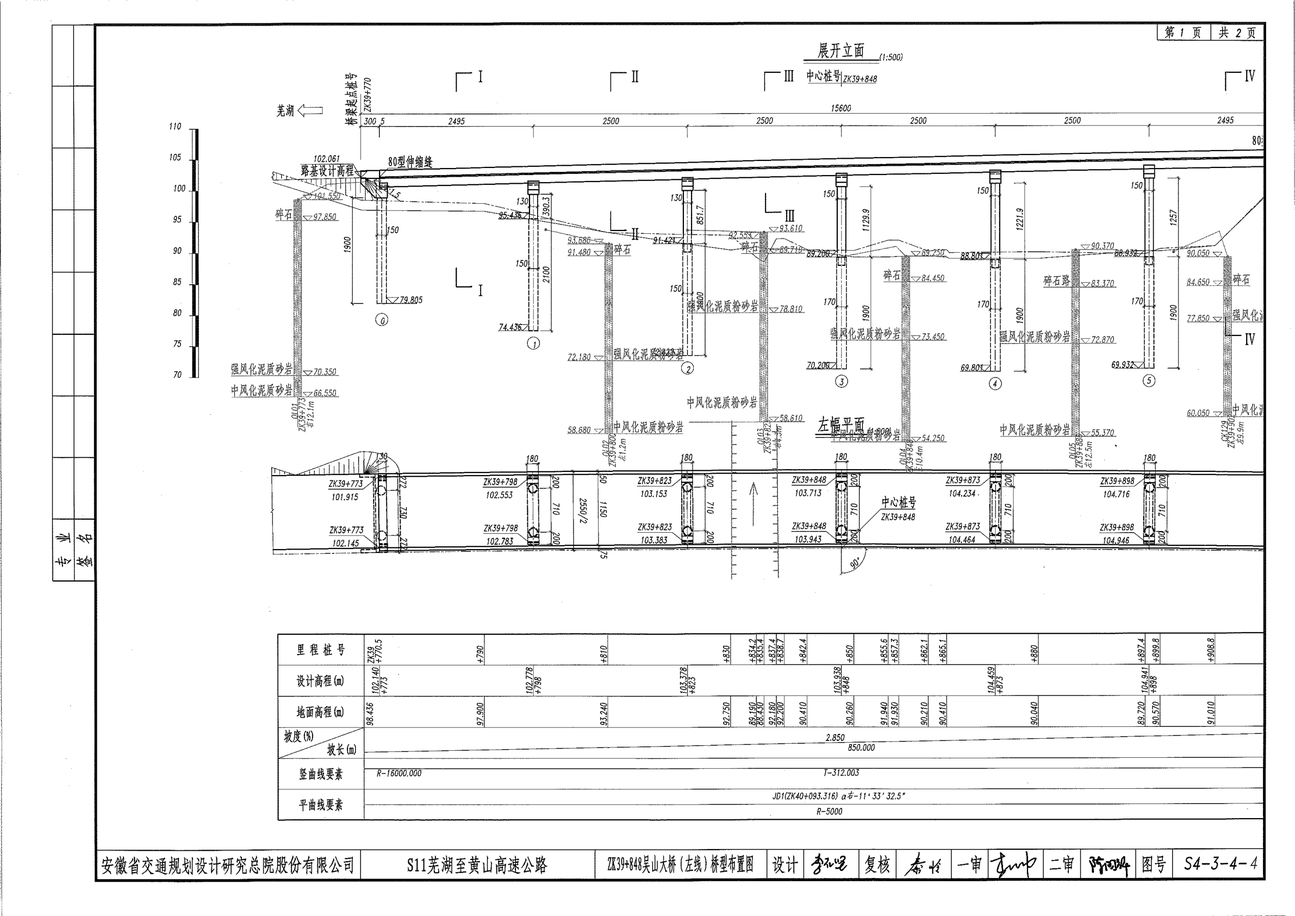A: (253, 34, 1285, 395)
